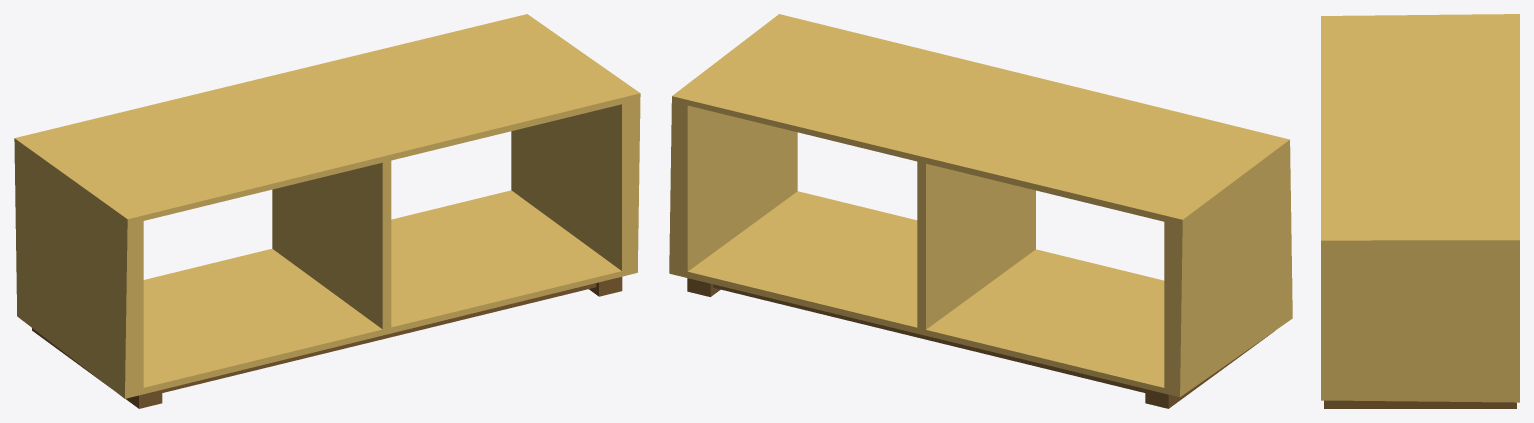
The model's file is coffee table.fbx.
The picture shows the model from 3 angles, left to right: view 1: azimuth 30°, elevation 25°; view 2: azimuth 150°, elevation 25°; view 3: azimuth 270°, elevation 25°; orthographic projection. The views are drawn at different scales.
Parts seen in each view (by area): view 1: Table, Foot; view 2: Table, Foot; view 3: Table, Foot.
Boxes of the visible parts, x1,y1,x2,y2 form: Table: [14, 14, 640, 398]; Foot: [32, 277, 622, 408]; Table: [669, 14, 1292, 397]; Foot: [687, 278, 1274, 408]; Table: [1321, 14, 1519, 402]; Foot: [1324, 400, 1516, 408].
Bounding box in the file's own units: 162 × 58.46 × 60.
